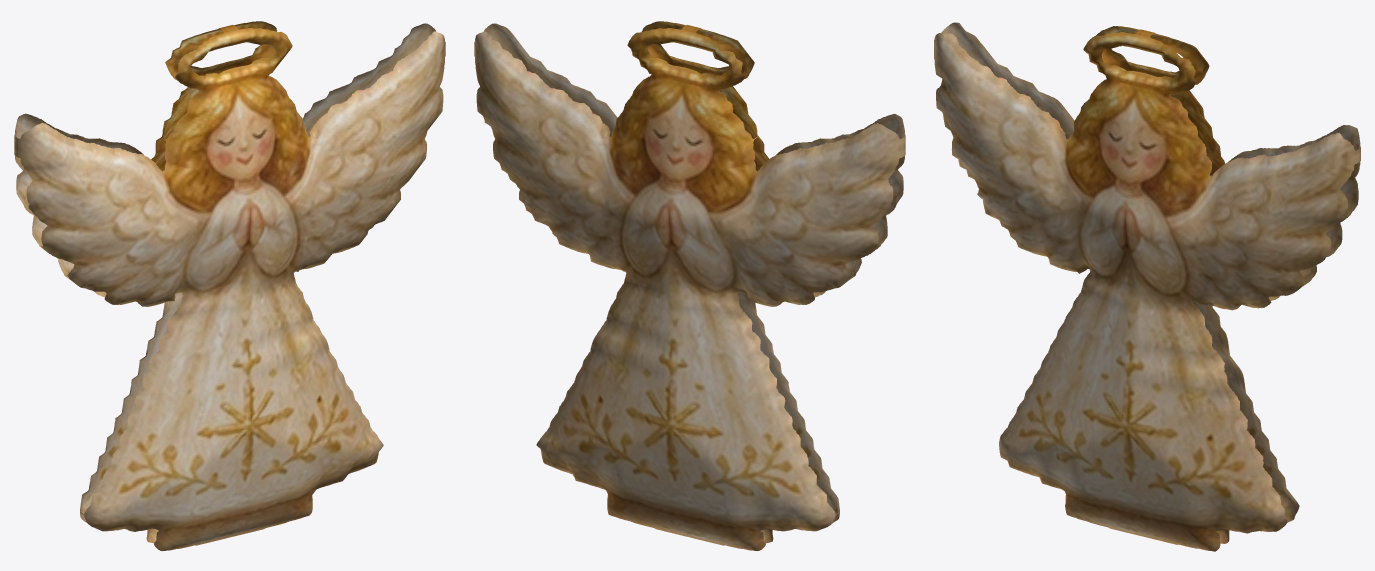
Rendered from Item_angel.glb.
The picture shows the model from 3 angles, left to right: view 1: azimuth 30°, elevation 25°; view 2: azimuth 150°, elevation 25°; view 3: azimuth 330°, elevation 25°; orthographic projection.
Parts seen in each view (by area): view 1: Item_angel carving; view 2: Item_angel carving; view 3: Item_angel carving.
Part boxes in pixels (x1,y1,x2,y2): Item_angel carving: (14,21,445,550); Item_angel carving: (474,21,905,550); Item_angel carving: (934,22,1360,551).
Size of the model in its own units: 0.3516 by 0.3994 by 0.062.
Materials: 1 (1 with a texture image).
